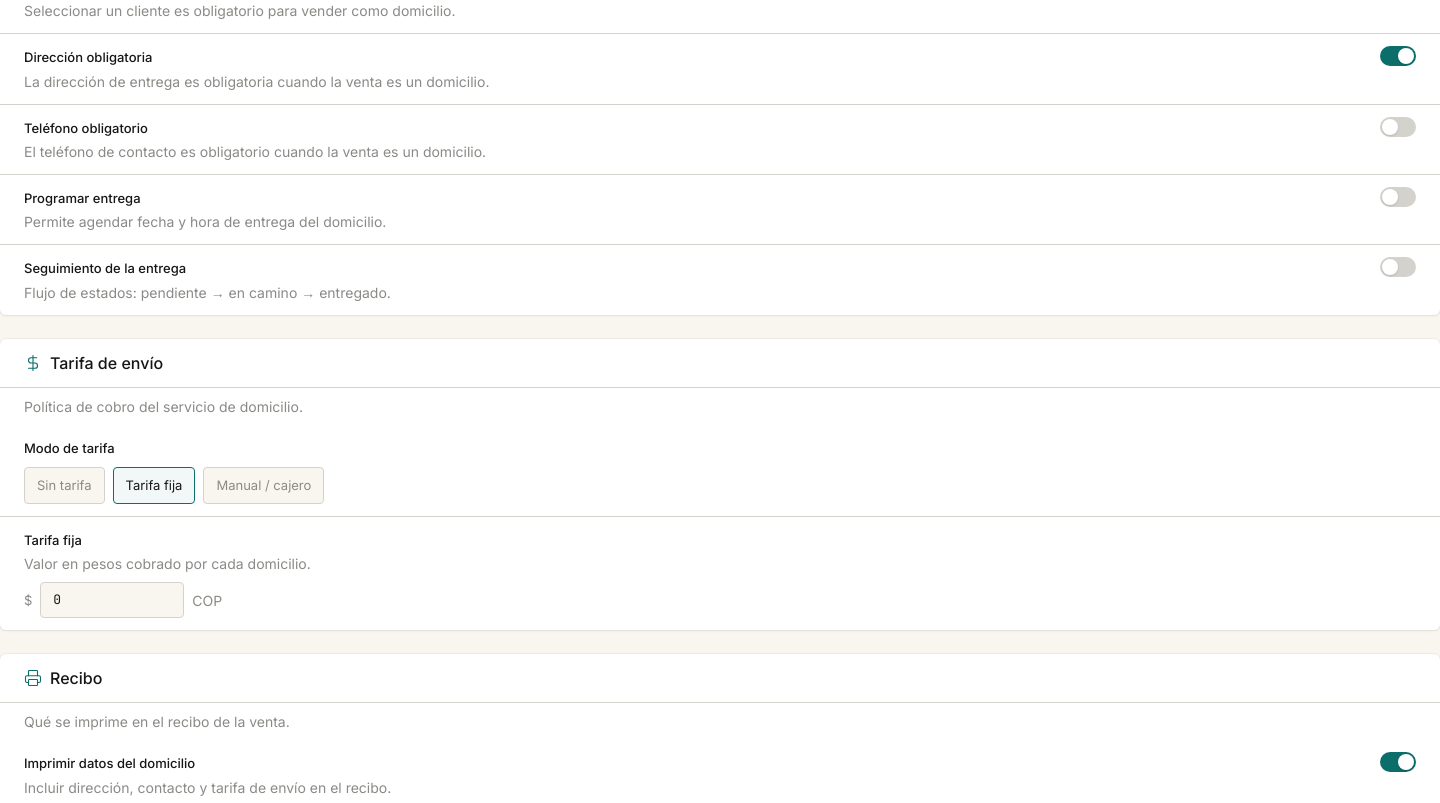
Test: DeliveryConfigTab › fixed fee validation › blocks the PUT and shows fixedFeeError when the fixed fee is emptied in FIXED mode
The image size is (1440, 803).
(page scrolled)
Step 1. Clear the field labelled "Tarifa fija" → point(112, 600), box left=40, top=582, right=184, bottom=618
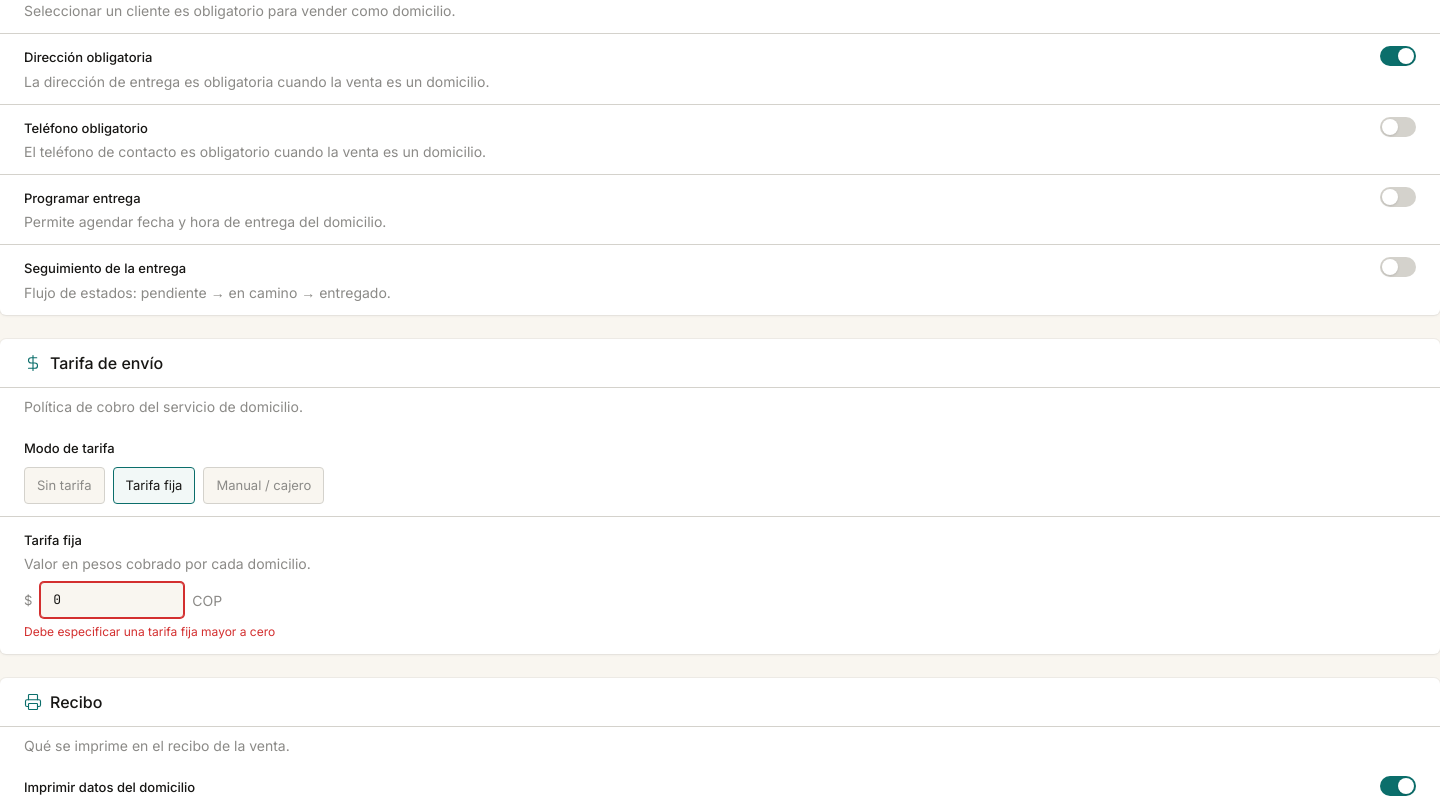
Expected: the message reads "Debe especificar una tarifa fija mayor a cero", left=24, top=624, right=275, bottom=639
